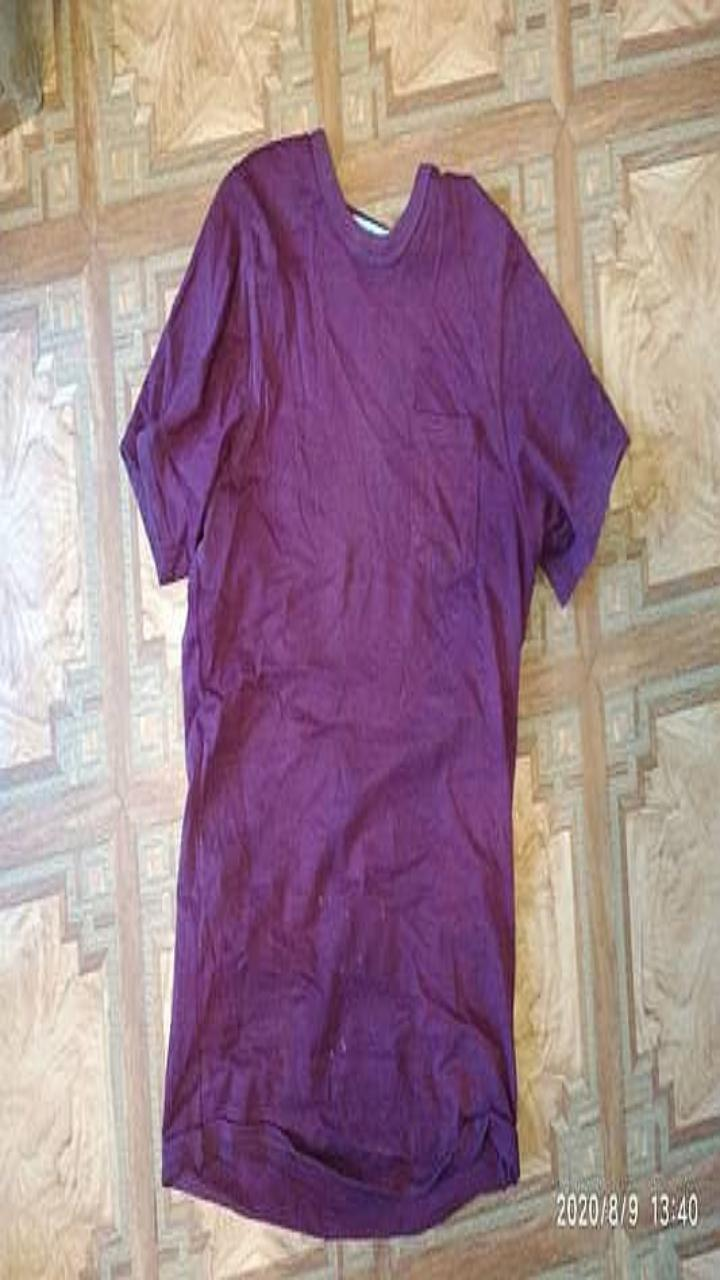T-Shirt: (120, 128, 627, 1237)
